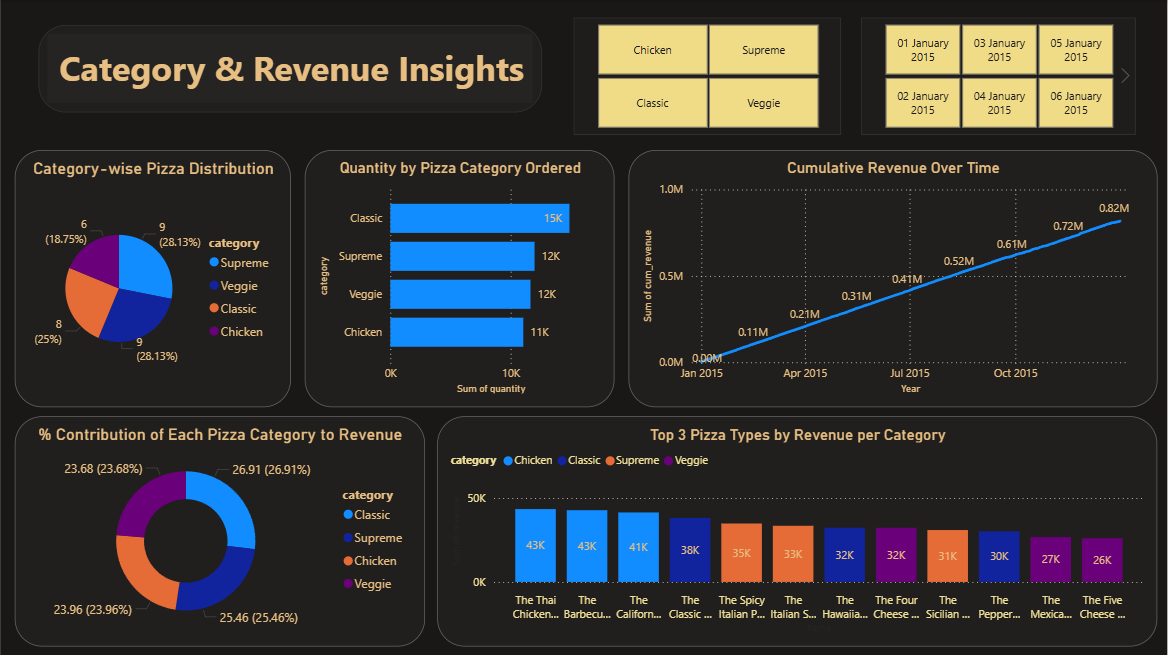

The dashboard page shown, as its layout file describes it:
{"tool":"powerbi","page":{"name":"Page 2","canvas":[1280,720],"ordinal":1},"visuals":[{"type":"barChart","title":"Quantity by Pizza Category Ordered","fields":{"Category":["Quantity_by_Pizza_Category.category"],"Y":["Sum(Quantity_by_Pizza_Category.quantity)"]},"box":[333.4,164.7,340.3,282.7],"z":0},{"type":"pieChart","title":"Category-wise Pizza Distribution","fields":{"Category":["category_wise_distribution.category"],"Y":["Sum(category_wise_distribution.COUNT(name))"]},"box":[15.1,164.7,303.3,282.7],"z":1000},{"type":"lineChart","title":"Cumulative Revenue Over Time","fields":{"Y":["Sum(Cumulative_Revenue_Over_Time.cum_revenue)"],"Category":["Cumulative_Revenue_Over_Time.order_date.Variation.Date Hierarchy.Year","Cumulative_Revenue_Over_Time.order_date.Variation.Date Hierarchy.Quarter","Cumulative_Revenue_Over_Time.order_date.Variation.Date Hierarchy.Month","Cumulative_Revenue_Over_Time.order_date.Variation.Date Hierarchy.Day"]},"box":[688.9,164.7,580.4,282.7],"z":2000},{"type":"donutChart","title":"% Contribution of Each Pizza Category to Revenue","fields":{"Category":["Percentage_Contribution_of_Each_Pizza_Category_to_Revenue.category"],"Y":["Sum(Percentage_Contribution_of_Each_Pizza_Category_to_Revenue.revenue)"]},"box":[15.1,456.9,450.1,252.5],"z":3000},{"type":"columnChart","title":"Top 3 Pizza Types by Revenue per Category","fields":{"Category":["Top_Three_Pizza_Types_by_Revenue_per_Category.name"],"Y":["Sum(Top_Three_Pizza_Types_by_Revenue_per_Category.revenue)"],"Series":["Top_Three_Pizza_Types_by_Revenue_per_Category.category"]},"box":[478.9,456.9,790.4,252.5],"z":4000},{"type":"shape","box":[41.2,27.4,553,96.1],"z":5000},{"type":"textbox","box":[59,43.9,548.9,79.6],"z":6000},{"type":"slicer","fields":{"Values":["category_wise_distribution.category"]},"box":[628.5,19.2,293.7,129],"z":7000},{"type":"slicer","fields":{"Values":["Cumulative_Revenue_Over_Time.order_date"]},"box":[944.1,19.2,301.9,129],"z":8000}]}

Visuals, with their boxes in screenshot pixels (x1, y1, x2, y2), scaled from the page's 1280x720 canvas onto the 1168x655 screenshot:
"Quantity by Pizza Category Ordered" barChart: bbox=(304, 150, 615, 407)
"Category-wise Pizza Distribution" pieChart: bbox=(14, 150, 291, 407)
"Cumulative Revenue Over Time" lineChart: bbox=(629, 150, 1158, 407)
"% Contribution of Each Pizza Category to Revenue" donutChart: bbox=(14, 416, 424, 645)
"Top 3 Pizza Types by Revenue per Category" columnChart: bbox=(437, 416, 1158, 645)
shape: bbox=(38, 25, 542, 112)
textbox: bbox=(54, 40, 555, 112)
slicer - category_wise_distribution.category: bbox=(574, 17, 842, 135)
slicer - Cumulative_Revenue_Over_Time.order_date: bbox=(861, 17, 1137, 135)
